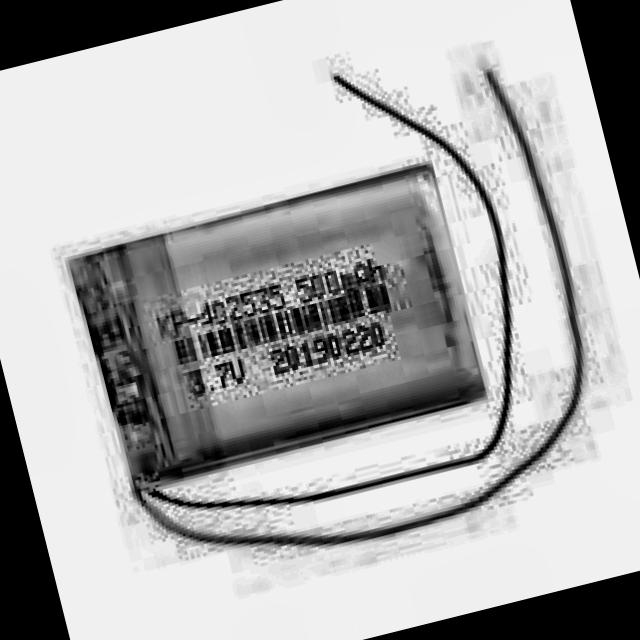Battery: (71, 172, 488, 491)
